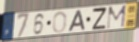6: (33, 13, 45, 36)
7: (16, 12, 31, 39)
A: (67, 9, 87, 32)
M: (106, 4, 128, 31)
O: (52, 10, 68, 34)
Z: (91, 7, 108, 31)
